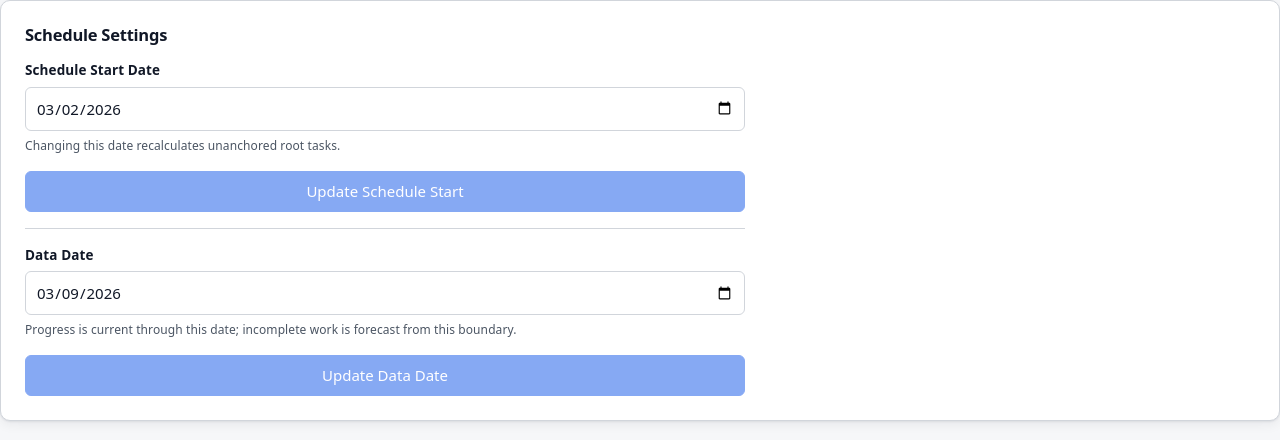
Test: ScheduleStartControl › updates the Data Date and rolls back a recoverable failure
Type "2026-03-11" into the date field labelled "Data Date" at x=385, y=293, box 25,271 -> 745,316
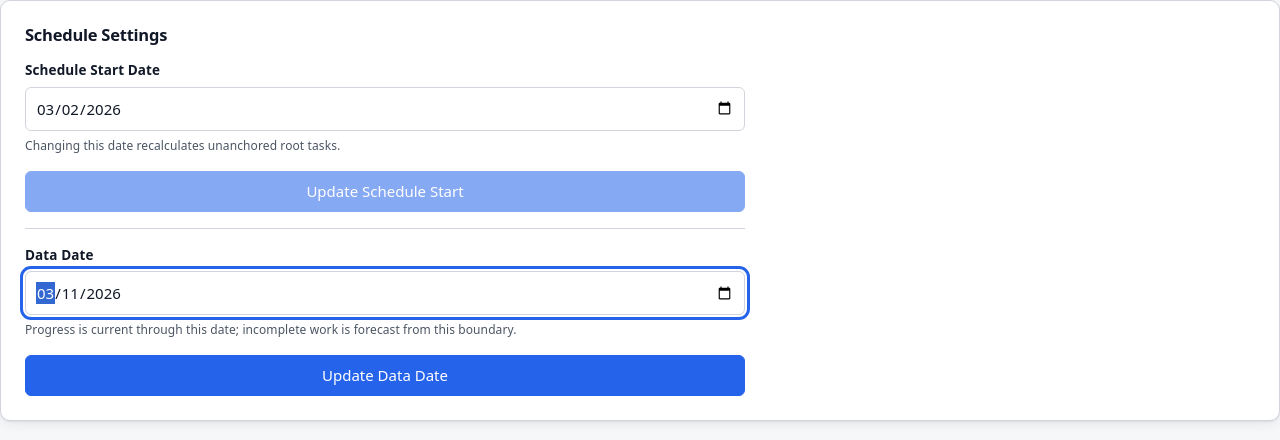
Click the button "Update Data Date" at x=385, y=376, box 25,356 -> 745,396
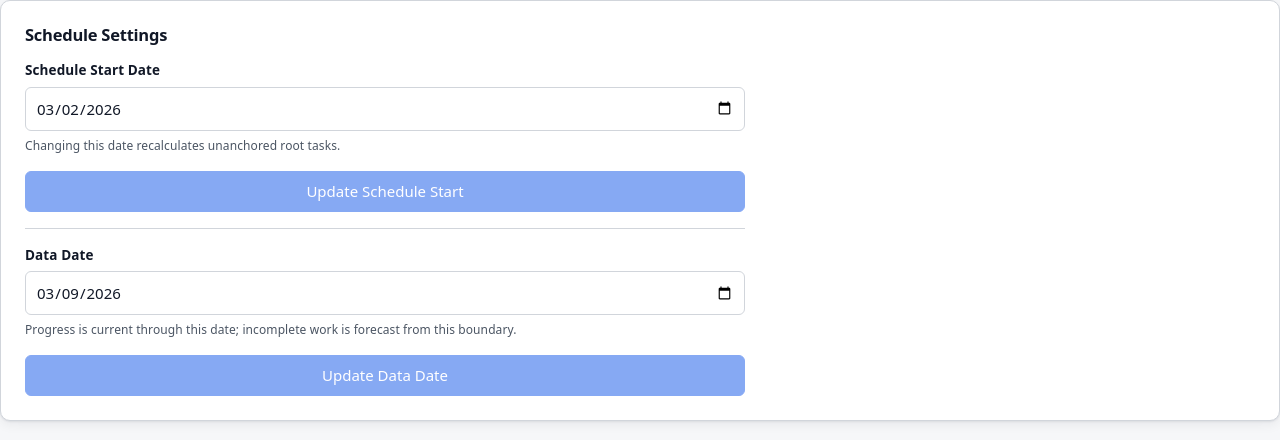
Check: the date field labelled "Data Date" holds "2026-03-09", box 25,271 -> 745,316
